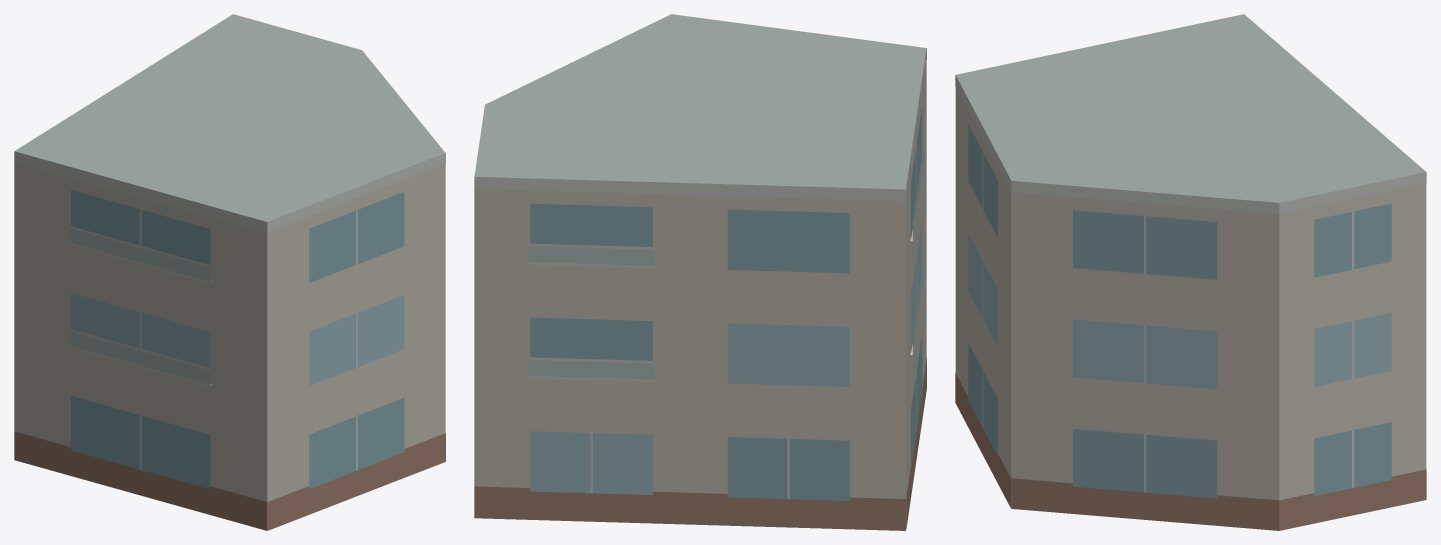
File: survey-upis-33036110.glb
The picture shows the model from 3 angles, left to right: view 1: azimuth 30°, elevation 25°; view 2: azimuth 150°, elevation 25°; view 3: azimuth 270°, elevation 25°; orthographic projection. The views are drawn at different scales.
Parts seen in each view (by area): view 1: survey-upis-33036110.tmp; view 2: survey-upis-33036110.tmp; view 3: survey-upis-33036110.tmp.
Boxes of the visible parts, bbox=[...] form: survey-upis-33036110.tmp: bbox=[14, 14, 445, 530]; survey-upis-33036110.tmp: bbox=[474, 14, 926, 530]; survey-upis-33036110.tmp: bbox=[955, 14, 1426, 530].
Bounding box in the file's own units: 8.73 × 7.06 × 9.2.
